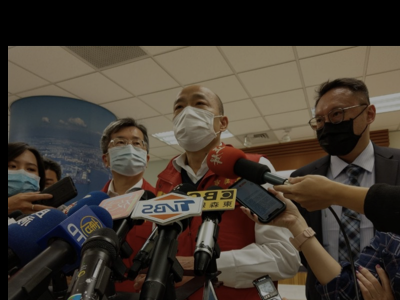with_mask: (313, 99, 365, 155), (171, 91, 219, 151), (104, 133, 146, 175), (7, 157, 39, 196)
